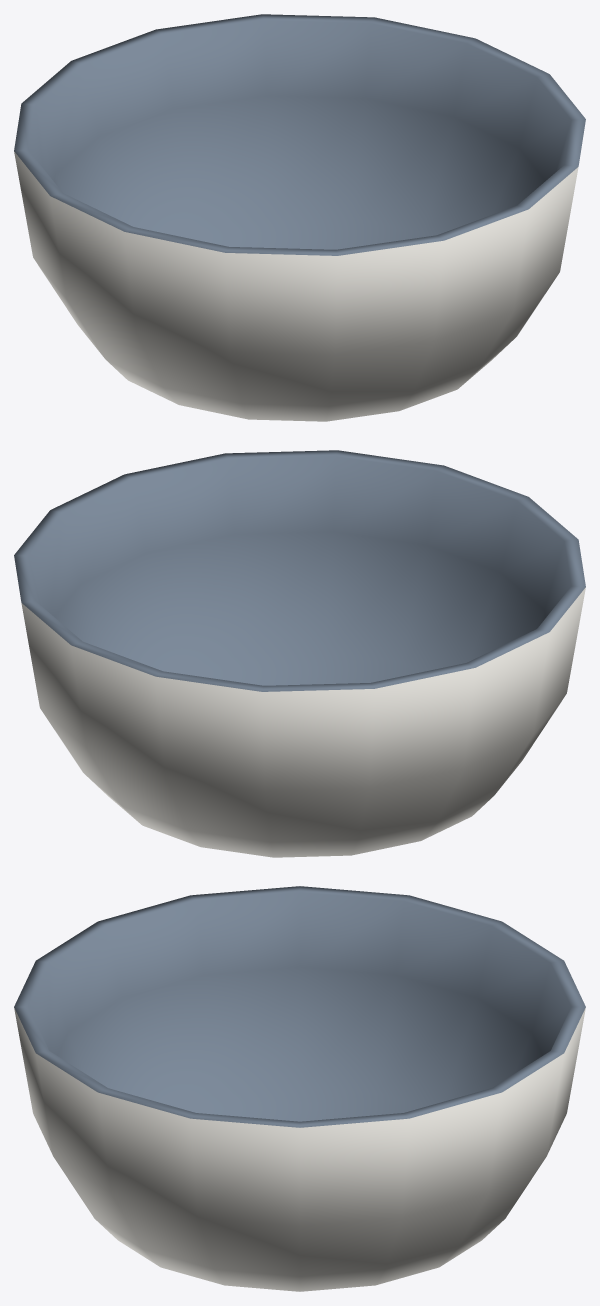
File: cereal_bowl.glb
3 renders of one model, top to bottom at view 1: azimuth 30°, elevation 25°; view 2: azimuth 150°, elevation 25°; view 3: azimuth 270°, elevation 25°, orthographic.
Parts seen in each view (by area): view 1: cereal_bowl; view 2: cereal_bowl; view 3: cereal_bowl.
Boxes of the visible parts, x1,y1,x2,y2 form: cereal_bowl: (14,14,585,421); cereal_bowl: (14,450,585,857); cereal_bowl: (14,886,585,1291).
Size of the model in its own units: 0.18 by 0.07 by 0.18.
